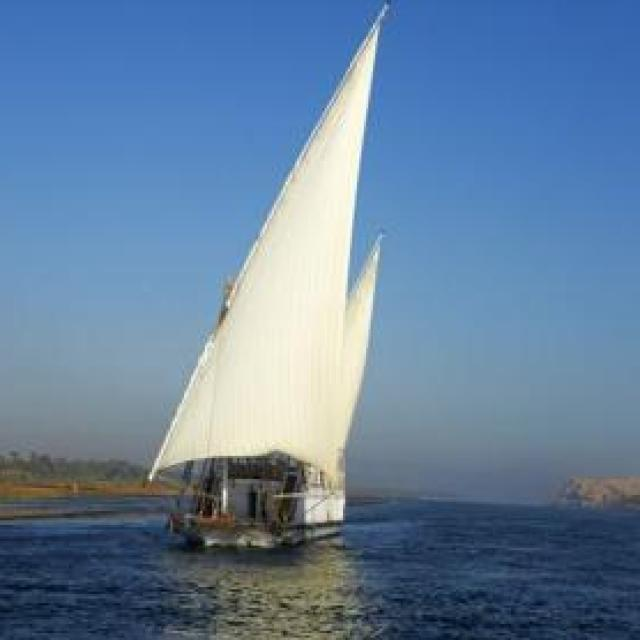sailboat: (152, 0, 391, 550)
